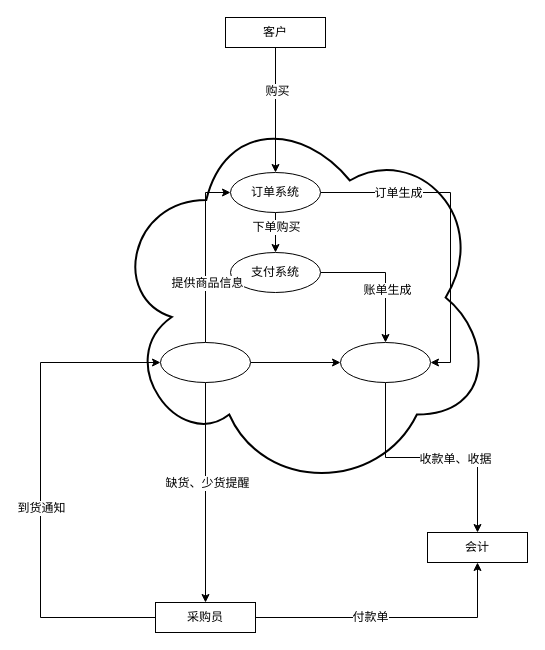
The diagram is 545 pixels wide and 650 high, and some of its shapes have lost their labels. The box of each missing label's shape, as (x1, y1, x2, y2) in pixels:
商品管理系统: (160, 342, 250, 382)
数据统计系统: (340, 342, 430, 382)
